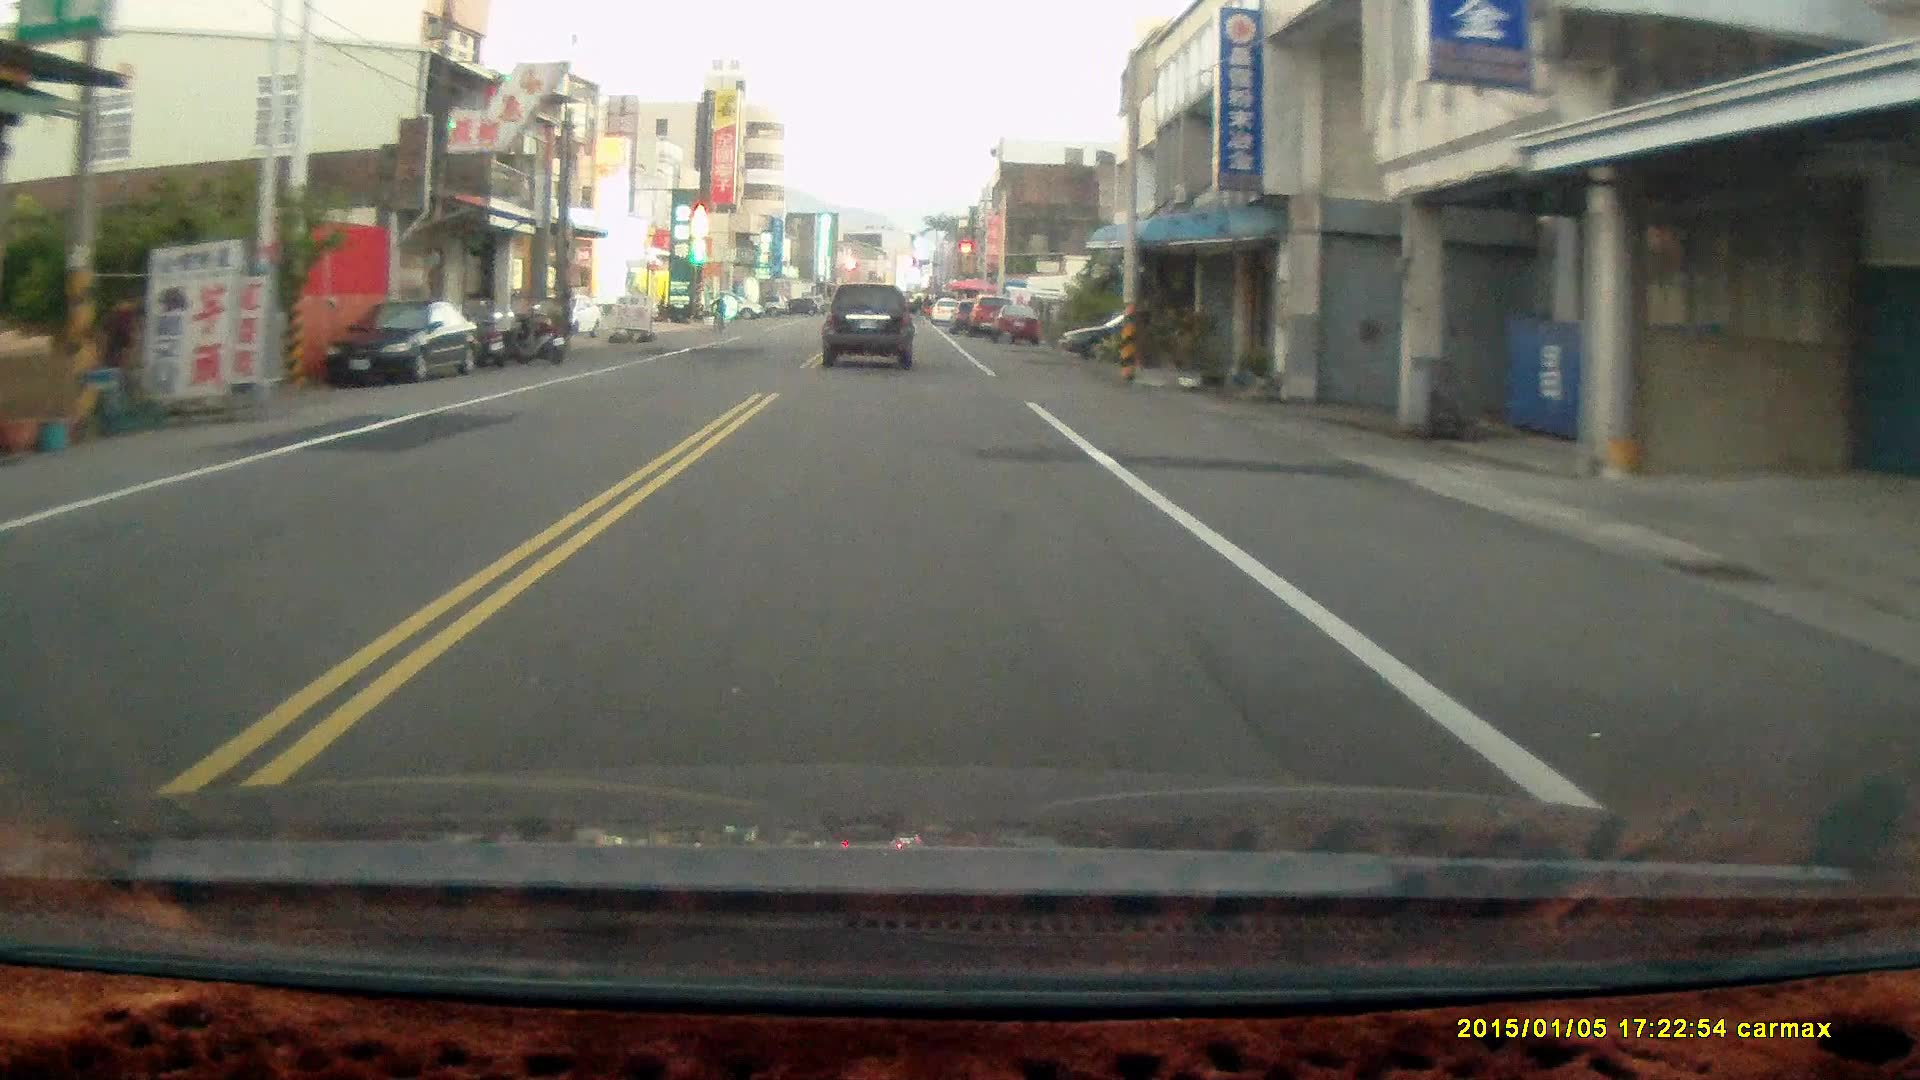pedestrian: (97, 295, 136, 417)
rider: (705, 292, 727, 334)
vehicle: (321, 302, 483, 391), (821, 283, 917, 372)
